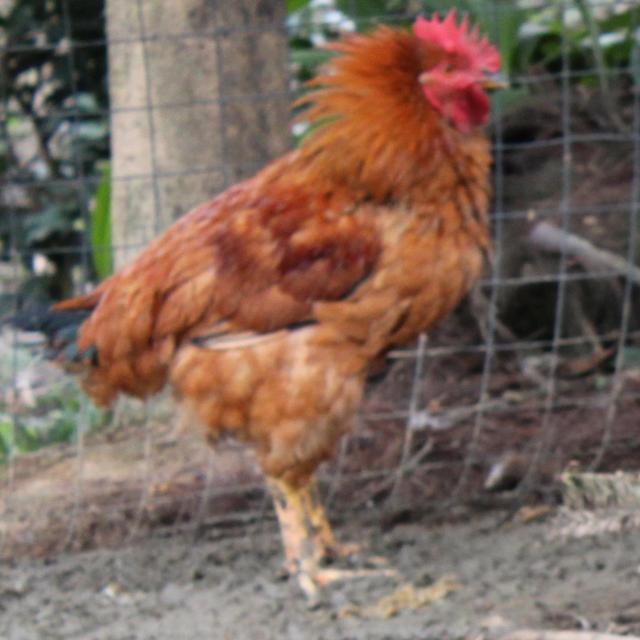cook: (57, 14, 500, 603)
